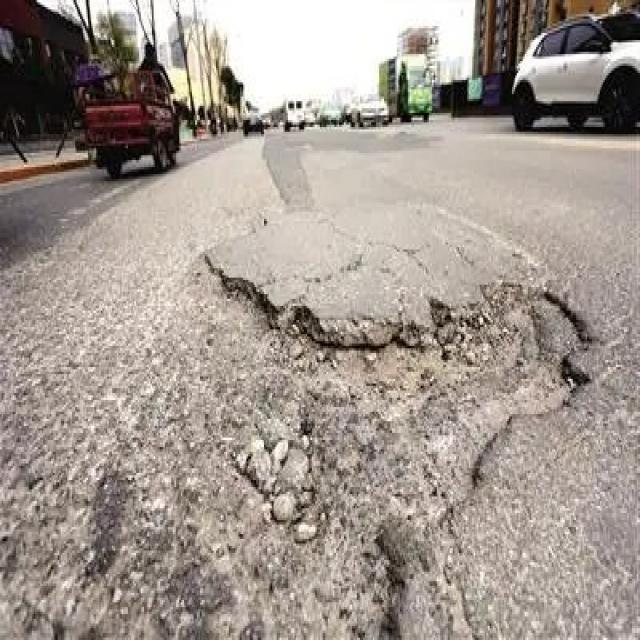pothole: (194, 254, 593, 638)
